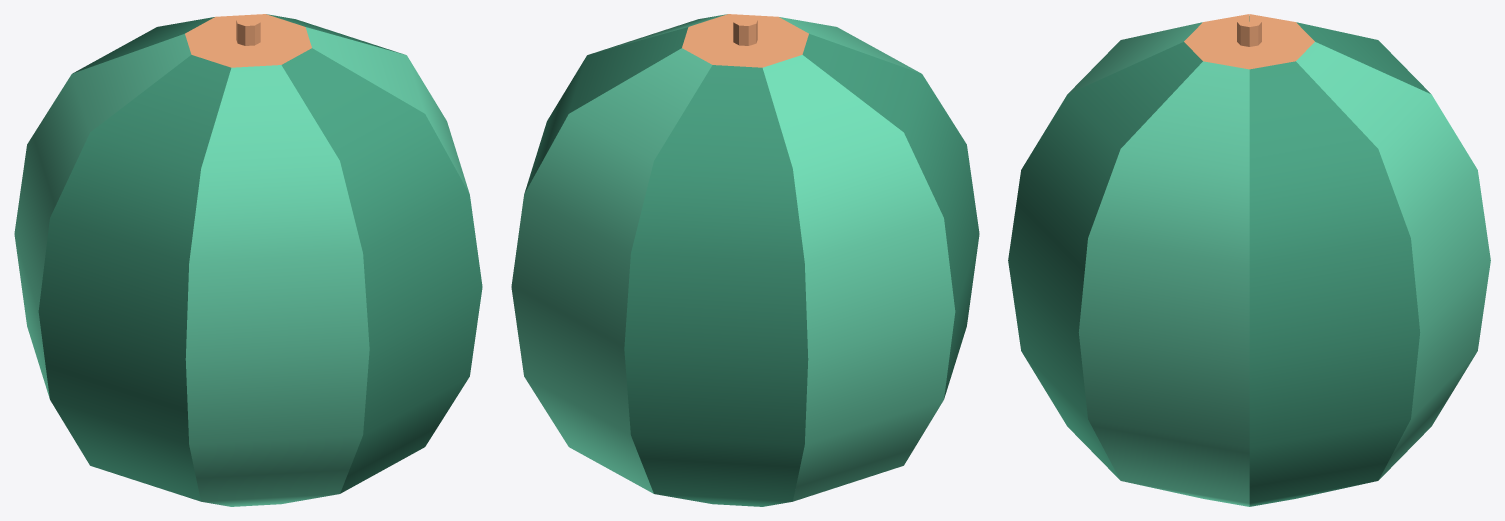
Rendered from Watermelon.glb.
3 views of the same model, side by side, from view 1: azimuth 30°, elevation 25°; view 2: azimuth 150°, elevation 25°; view 3: azimuth 270°, elevation 25° (orthographic).
Visible parts, largest first — view 1: slice_2, slice_4, slice_7, slice_1, slice_6, slice_5, slice; view 2: slice_5, slice_1, slice_3, slice_4, slice, slice_2, slice_6; view 3: slice, slice_6, slice_3, slice_7, slice_2, slice_5.
Part boxes in pixels (bbox=[...]): slice_2: bbox=[185, 21, 369, 506]; slice_4: bbox=[38, 21, 247, 501]; slice_7: bbox=[249, 21, 482, 493]; slice_1: bbox=[14, 19, 247, 398]; slice_6: bbox=[249, 18, 469, 193]; slice_5: bbox=[73, 16, 247, 73]; slice: bbox=[249, 14, 403, 54]; slice_5: bbox=[624, 21, 808, 506]; slice_1: bbox=[746, 21, 955, 501]; slice_3: bbox=[511, 21, 744, 493]; slice_4: bbox=[746, 19, 979, 398]; slice: bbox=[524, 18, 744, 193]; slice_2: bbox=[746, 16, 920, 73]; slice_6: bbox=[590, 14, 744, 54]; slice: bbox=[1249, 22, 1420, 506]; slice_6: bbox=[1078, 22, 1249, 506]; slice_3: bbox=[1250, 21, 1490, 479]; slice_7: bbox=[1008, 21, 1248, 479]; slice_2: bbox=[1068, 18, 1248, 93]; slice_5: bbox=[1250, 18, 1430, 93].
Bounding box in the file's own units: 0.4554 × 0.4761 × 0.4554.
